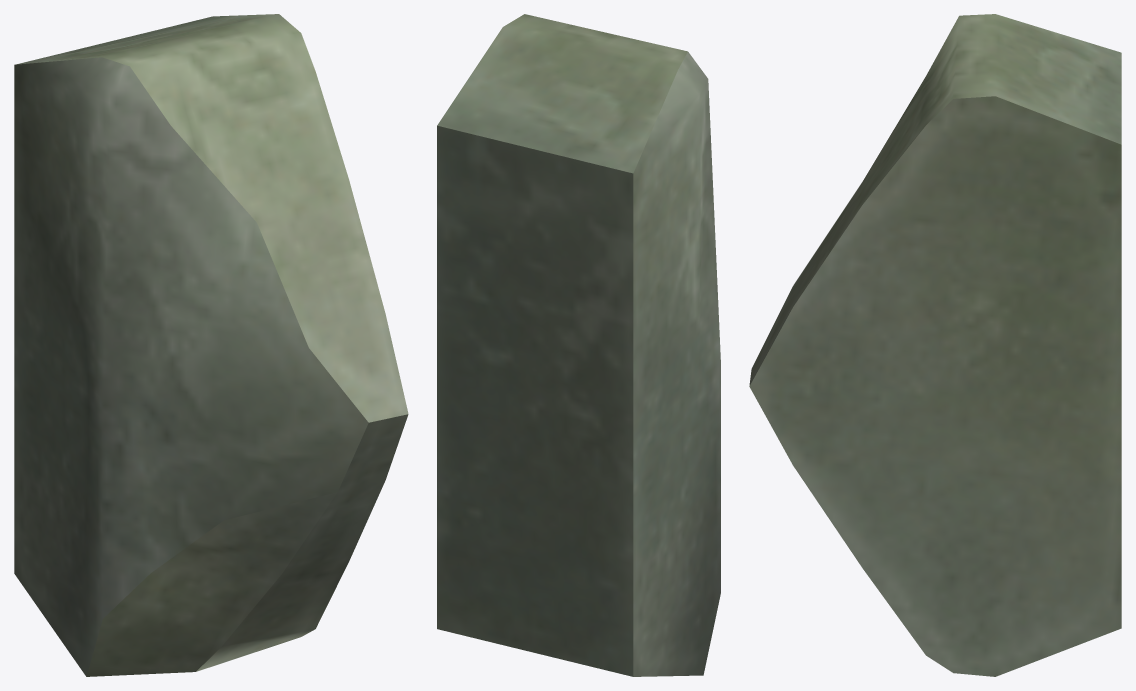
Rendered from Ruins_Trim_Cap_DMG_1M_A.fbx.
The picture shows the model from 3 angles, left to right: view 1: azimuth 30°, elevation 25°; view 2: azimuth 150°, elevation 25°; view 3: azimuth 270°, elevation 25°; orthographic projection. The views are drawn at different scales.
Visible parts, largest first — view 1: Ruins_Trim_Cap_DMG_1M_A; view 2: Ruins_Trim_Cap_DMG_1M_A; view 3: Ruins_Trim_Cap_DMG_1M_A.
Boxes of the visible parts, x1,y1,x2,y2 form: Ruins_Trim_Cap_DMG_1M_A: (14, 14, 408, 676); Ruins_Trim_Cap_DMG_1M_A: (437, 14, 720, 676); Ruins_Trim_Cap_DMG_1M_A: (749, 14, 1121, 676).
Size of the model in its own units: 102 by 304 by 174.
